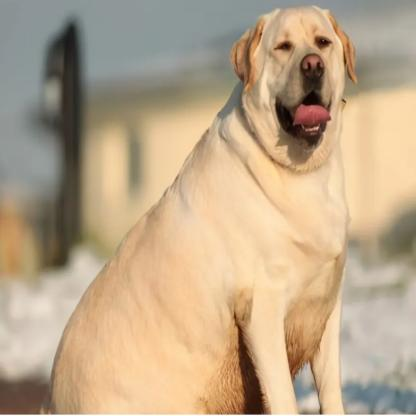dog: (44, 6, 362, 416)
